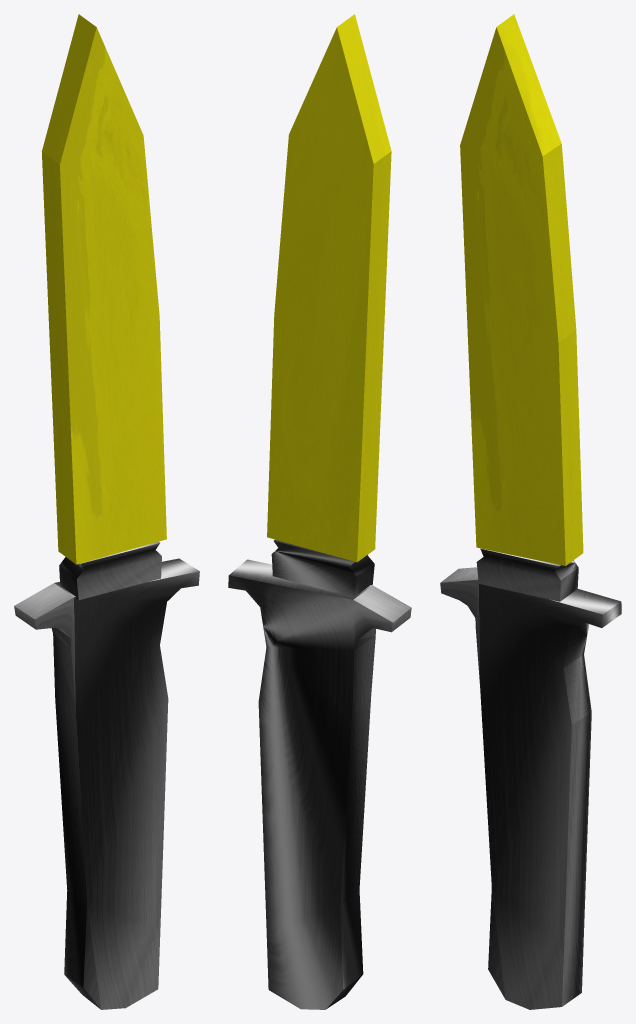
File: Confusion.obj
3 renders of one model, left to right at view 1: azimuth 30°, elevation 25°; view 2: azimuth 150°, elevation 25°; view 3: azimuth 330°, elevation 25°, orthographic.
Parts seen in each view (by area): view 1: nife_立方体, grip_立方体.002, root_立方体.001; view 2: nife_立方体, grip_立方体.002, root_立方体.001; view 3: nife_立方体, grip_立方体.002, root_立方体.001.
Boxes of the visible parts, <box> form: nife_立方体: <box>41,14,166,564</box>; grip_立方体.002: <box>14,558,199,1009</box>; root_立方体.001: <box>59,541,161,600</box>; nife_立方体: <box>267,14,391,562</box>; grip_立方体.002: <box>228,559,411,1009</box>; root_立方体.001: <box>271,539,374,596</box>; nife_立方体: <box>460,14,583,565</box>; grip_立方体.002: <box>440,567,621,1009</box>; root_立方体.001: <box>476,548,578,601</box>.
Bounding box in the file's own units: 1.18 × 6.7 × 0.2711.
2 materials, 2 textured.
